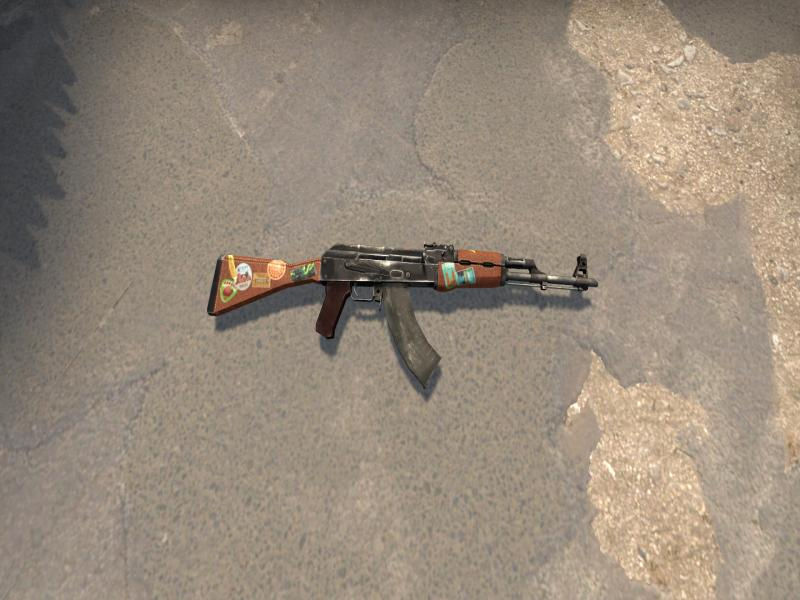AK47: (207, 242, 600, 382)
